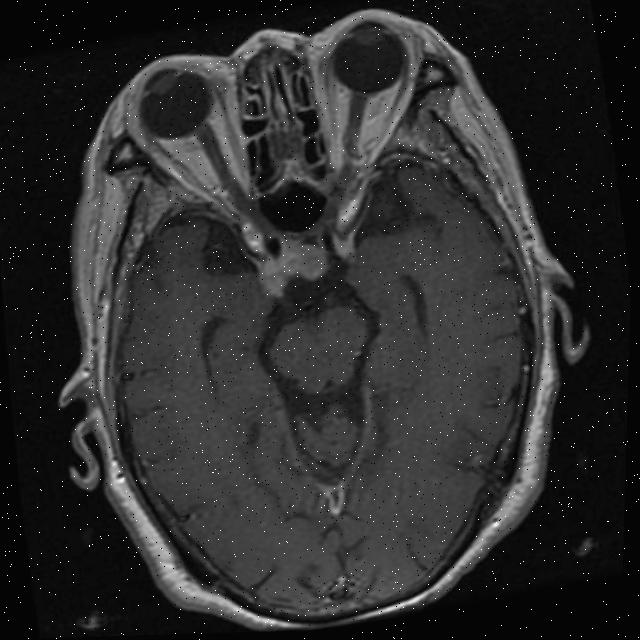Pituitary: (272, 224, 330, 285)
